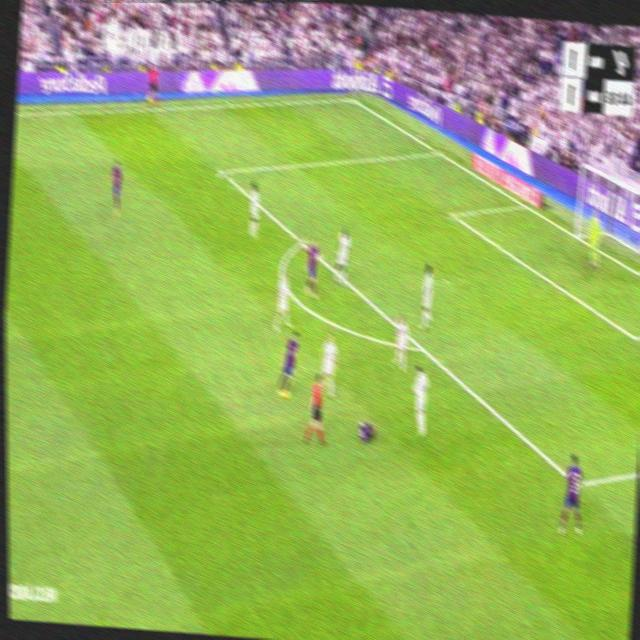bigarea_top_inner: (217, 161, 228, 181)
bigarea_top_outter: (432, 142, 443, 159)
bottom_arc_area_intersection: (416, 340, 425, 354)
corner: (346, 94, 356, 103)
smallarea_top_inner: (449, 206, 457, 221)
top_arc_area_intersection: (296, 230, 306, 251)
